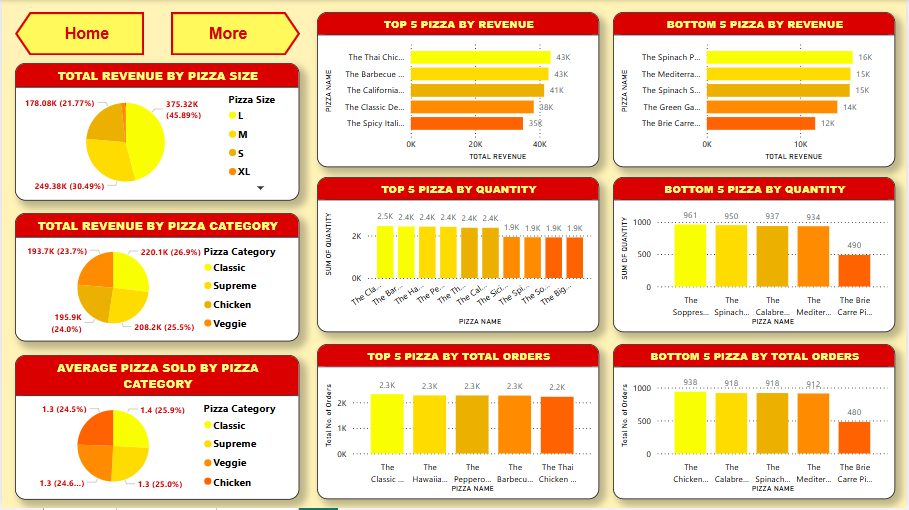

This screenshot's page, from the dashboard's own definition file:
{"tool":"powerbi","page":{"name":"Dashboard","canvas":[1280,720],"ordinal":1},"visuals":[{"type":"pieChart","title":"TOTAL REVENUE BY PIZZA SIZE","fields":{"Category":["pizza_sales.pizza_size"],"Y":["pizza_sales.TOTAL REVENUE"]},"box":[18.6,88.7,403.3,194.5],"z":0},{"type":"pieChart","title":"TOTAL REVENUE BY PIZZA CATEGORY","fields":{"Category":["pizza_sales.pizza_category"],"Y":["pizza_sales.TOTAL REVENUE"]},"box":[18.6,301.8,403.3,181.6],"z":1000},{"type":"pieChart","title":"AVERAGE PIZZA SOLD BY PIZZA CATEGORY","fields":{"Category":["pizza_sales.pizza_category"],"Y":["pizza_sales.AVERAGE PIZZA SOLD"]},"box":[18.6,503.4,403.3,204.5],"z":2000},{"type":"barChart","title":"TOTAL REVENUE BY PIZZA NAME","fields":{"Category":["pizza_sales.pizza_name"],"Y":["pizza_sales.TOTAL REVENUE"]},"box":[446.2,17.2,400.4,220],"z":3000},{"type":"barChart","title":"TOTAL REVENUE BY PIZZA NAME","fields":{"Category":["pizza_sales.pizza_name"],"Y":["pizza_sales.TOTAL REVENUE"]},"box":[866.7,17.2,400.4,220],"z":4000},{"type":"columnChart","title":"SUM OF QUANTITY BY PIZZA NAME","fields":{"Category":["pizza_sales.pizza_name"],"Y":["Sum(pizza_sales.quantity)"]},"box":[446.2,250.3,400.4,220.2],"z":5000},{"type":"columnChart","title":"TOTAL NUMBER OF ORDERS BY PIZZA NAME","fields":{"Category":["pizza_sales.pizza_name"],"Y":["pizza_sales.TOTAL NUMBER OF ORDERS"]},"box":[446.2,487.7,400.4,220.2],"z":6000},{"type":"columnChart","title":"SUM OF QUANTITY BY PIZZA NAME","fields":{"Category":["pizza_sales.pizza_name"],"Y":["Sum(pizza_sales.quantity)"]},"box":[866.7,250.3,400.4,220.2],"z":7000},{"type":"columnChart","title":"TOTAL NUMBER OF ORDERS BY PIZZA NAME","fields":{"Category":["pizza_sales.pizza_name"],"Y":["pizza_sales.TOTAL NUMBER OF ORDERS"]},"box":[866.7,487.7,400.4,220.2],"z":8000},{"type":"actionButton","box":[150.2,17.2,140.2,61.5],"z":9000}]}

Visuals, with their boxes in screenshot pixels (x1, y1, x2, y2), scaled from the page's 1280x720 canvas onto the 909x510 screenshot:
"TOTAL REVENUE BY PIZZA SIZE" pieChart: 13:63:300:201
"TOTAL REVENUE BY PIZZA CATEGORY" pieChart: 13:214:300:342
"AVERAGE PIZZA SOLD BY PIZZA CATEGORY" pieChart: 13:357:300:501
"TOTAL REVENUE BY PIZZA NAME" barChart: 317:12:601:168
"TOTAL REVENUE BY PIZZA NAME" barChart: 615:12:900:168
"SUM OF QUANTITY BY PIZZA NAME" columnChart: 317:177:601:333
"TOTAL NUMBER OF ORDERS BY PIZZA NAME" columnChart: 317:345:601:501
"SUM OF QUANTITY BY PIZZA NAME" columnChart: 615:177:900:333
"TOTAL NUMBER OF ORDERS BY PIZZA NAME" columnChart: 615:345:900:501
actionButton: 107:12:206:56
